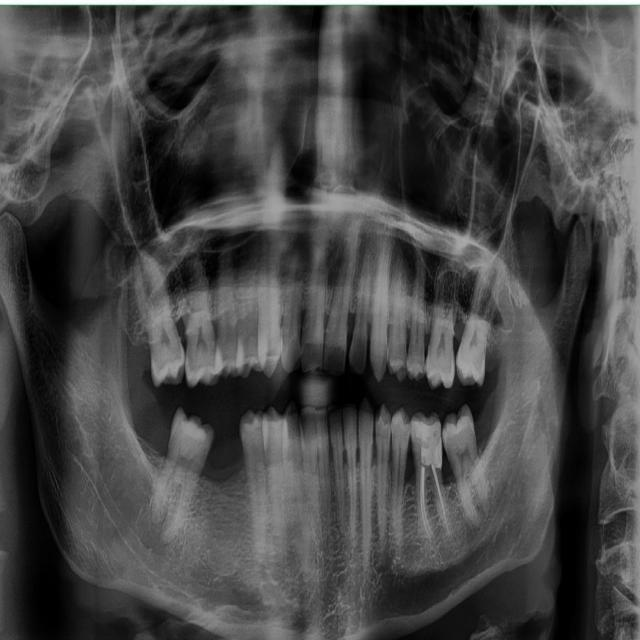Filling: (412, 419, 444, 468)
Missing teeth: (198, 422, 245, 484)
Periapical lesion: (136, 502, 168, 548), (374, 554, 393, 573), (151, 542, 168, 556)
Root Canal Treatment: (431, 465, 449, 536), (421, 466, 431, 537), (422, 466, 432, 535)
